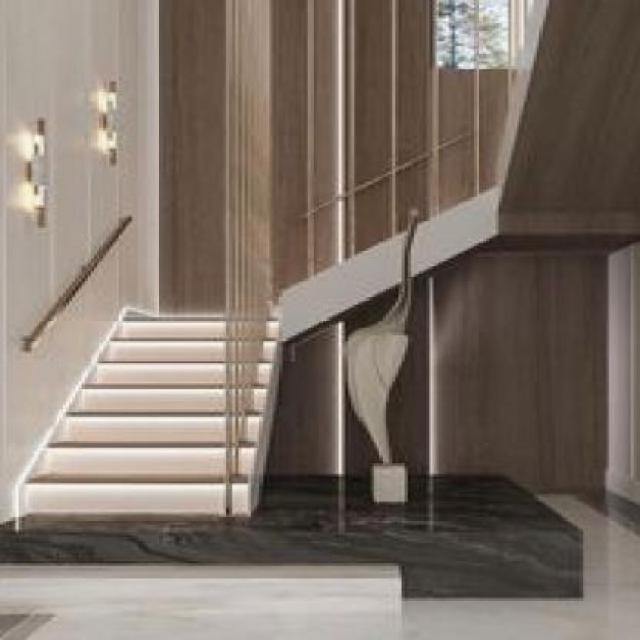stair: (9, 262, 377, 536)
